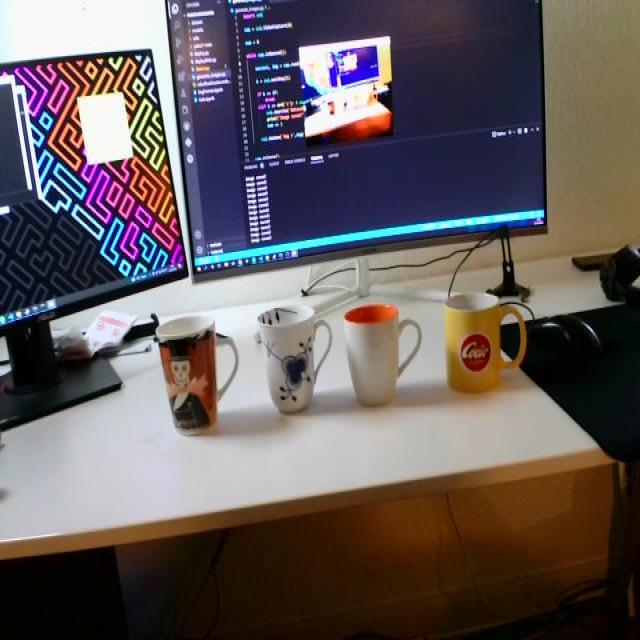cup: (441, 277, 539, 420), (148, 298, 242, 434), (340, 288, 430, 425), (254, 292, 328, 418)
